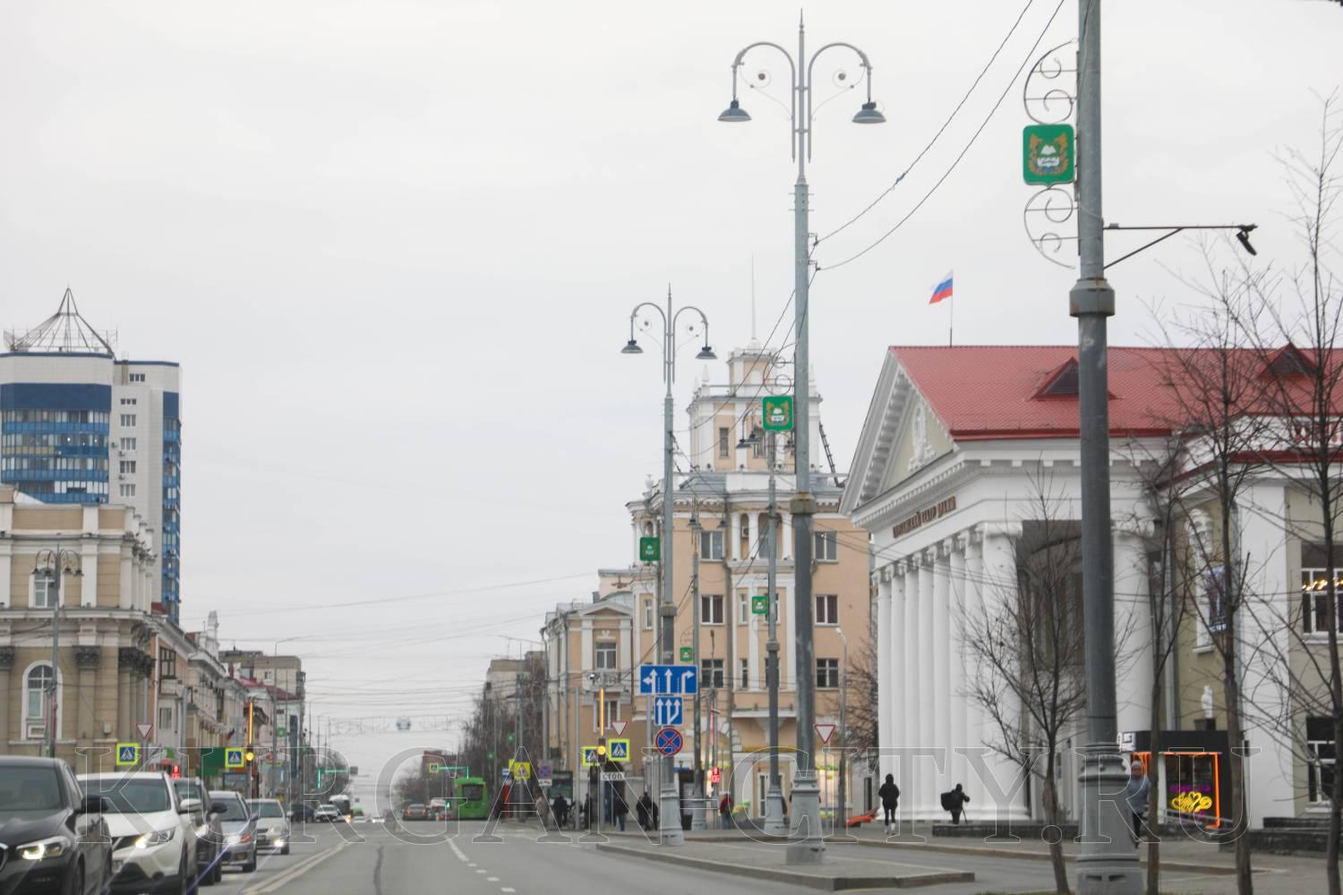odn_pole: (745, 10, 869, 876), (1049, 0, 1126, 894), (622, 268, 718, 842)
